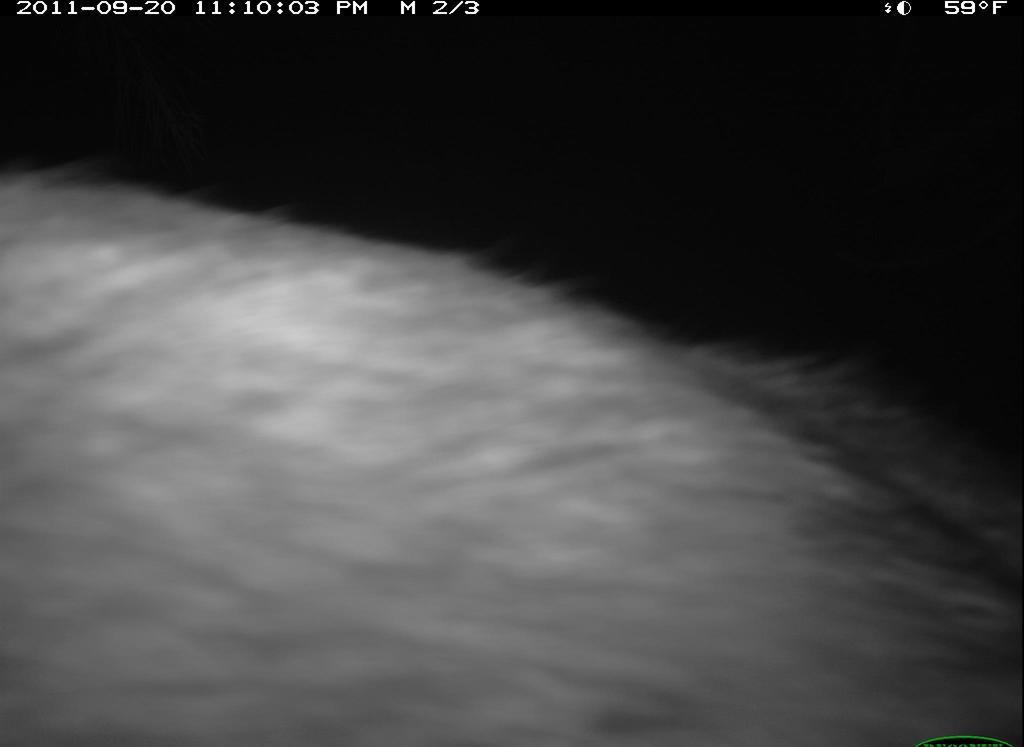raccoon: (4, 164, 1018, 744)
